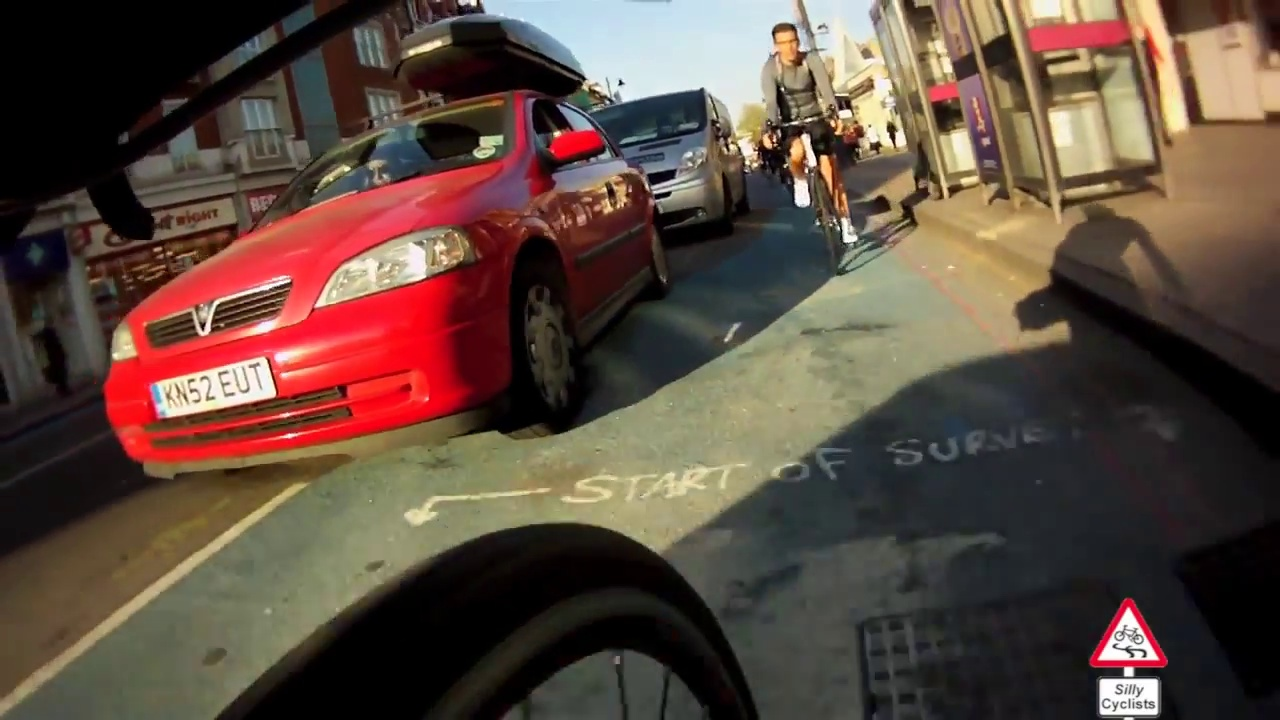cyclist_front: (748, 20, 876, 291)
